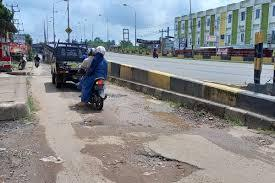Pothole: (84, 140, 194, 183), (141, 101, 205, 137), (79, 112, 108, 135), (102, 88, 131, 104)
